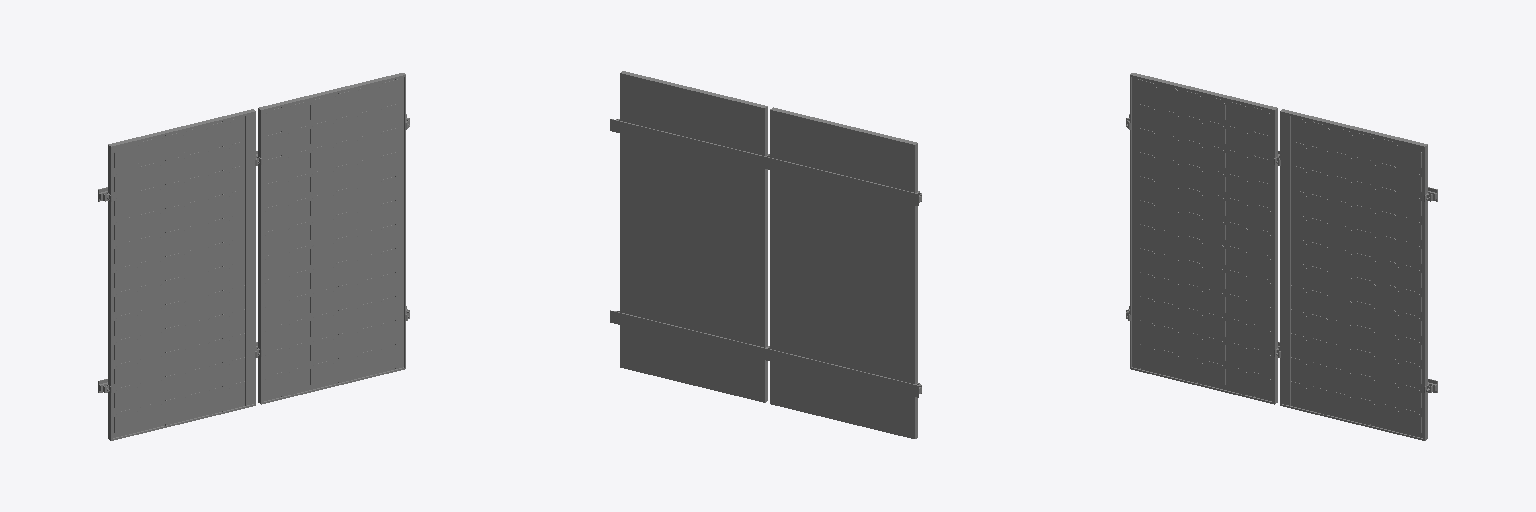
Rendered from SolarPanel.obj.
3 views of the same model, side by side, from view 1: azimuth 30°, elevation 25°; view 2: azimuth 150°, elevation 25°; view 3: azimuth 330°, elevation 25° (orthographic).
Visible parts, largest first — view 1: 10781_Solar-Panels_V1; view 2: 10781_Solar-Panels_V1; view 3: 10781_Solar-Panels_V1.
Part boxes in pixels (bbox=[...]): 10781_Solar-Panels_V1: bbox=[98, 73, 409, 440]; 10781_Solar-Panels_V1: bbox=[610, 71, 921, 438]; 10781_Solar-Panels_V1: bbox=[1126, 73, 1437, 440].
Bounding box in the file's own units: 1.67 × 1.52 × 0.0632.